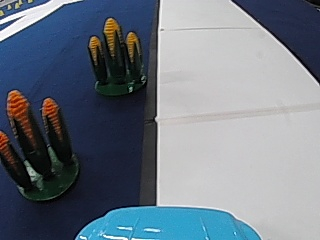corn: (3, 85, 79, 202), (86, 14, 146, 98)
